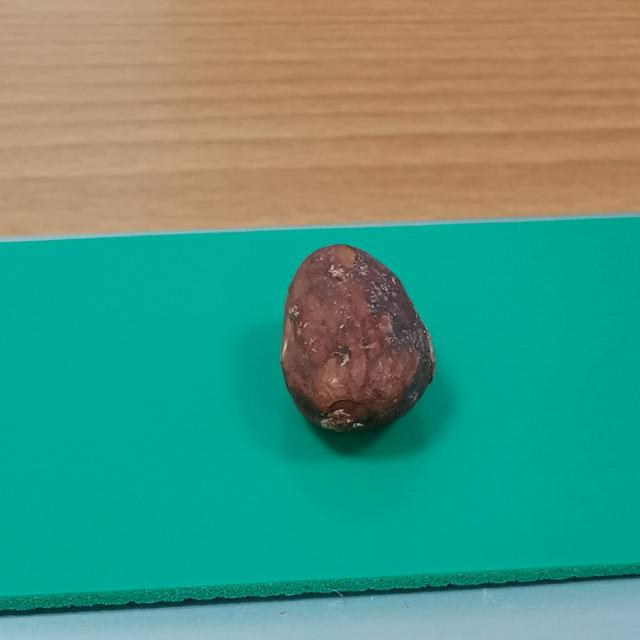Fine_cocoabeans: (235, 237, 498, 481)
